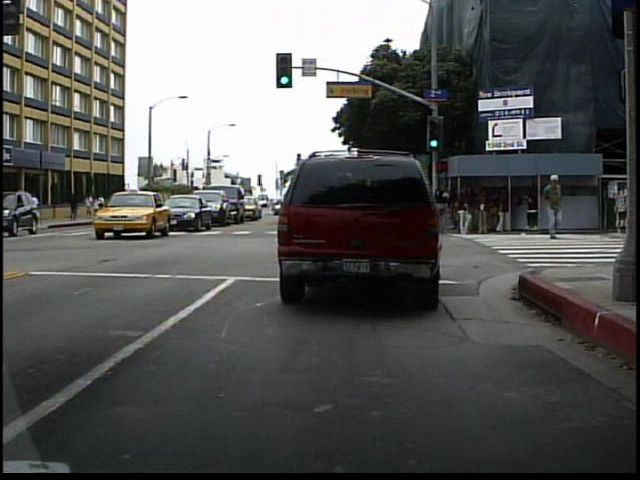person: (541, 170, 566, 244), (24, 194, 43, 230)
